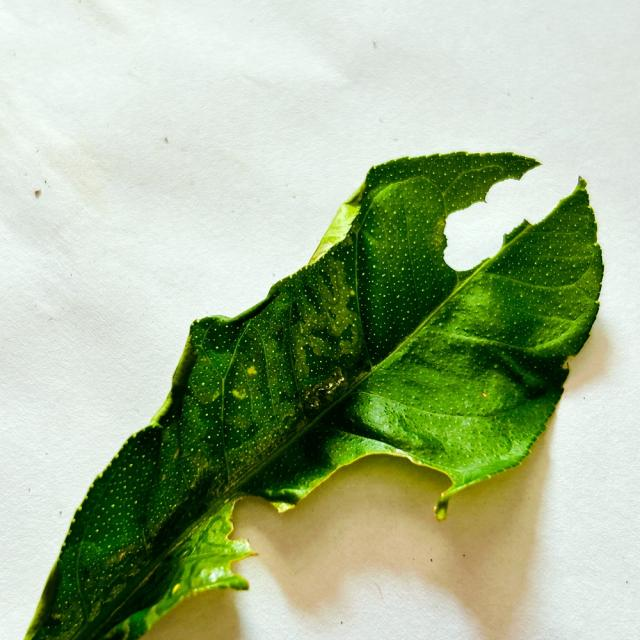Deficiency Leaf: (230, 455, 450, 611), (444, 164, 574, 271)
Lemon: (26, 152, 603, 639)
